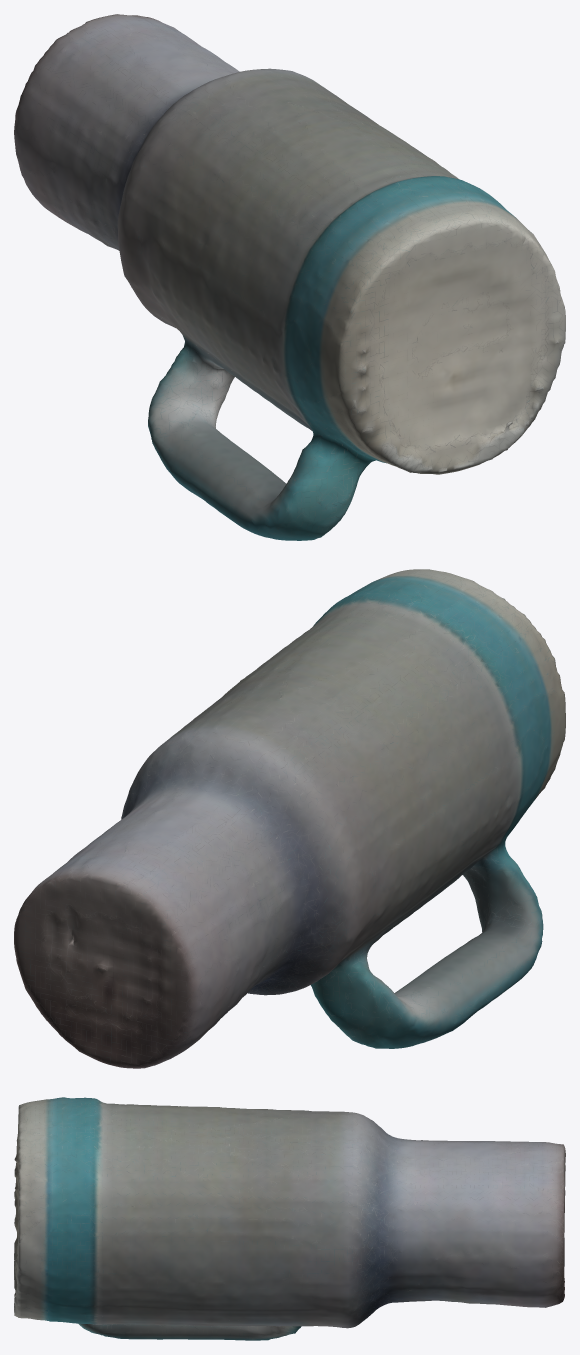
The model's file is tumbler.glb.
The picture shows the model from 3 angles, top to bottom: view 1: azimuth 30°, elevation 25°; view 2: azimuth 150°, elevation 25°; view 3: azimuth 270°, elevation 25°; orthographic projection. The views are drawn at different scales.
Visible parts, largest first — view 1: Node; view 2: Node; view 3: Node.
Part boxes in pixels (bbox=[...]): Node: bbox=[14, 14, 565, 540]; Node: bbox=[14, 569, 565, 1068]; Node: bbox=[14, 1097, 565, 1340].
Bounding box in the file's own units: 0.1131 × 0.1424 × 0.2646.
1 material, 1 textured.
